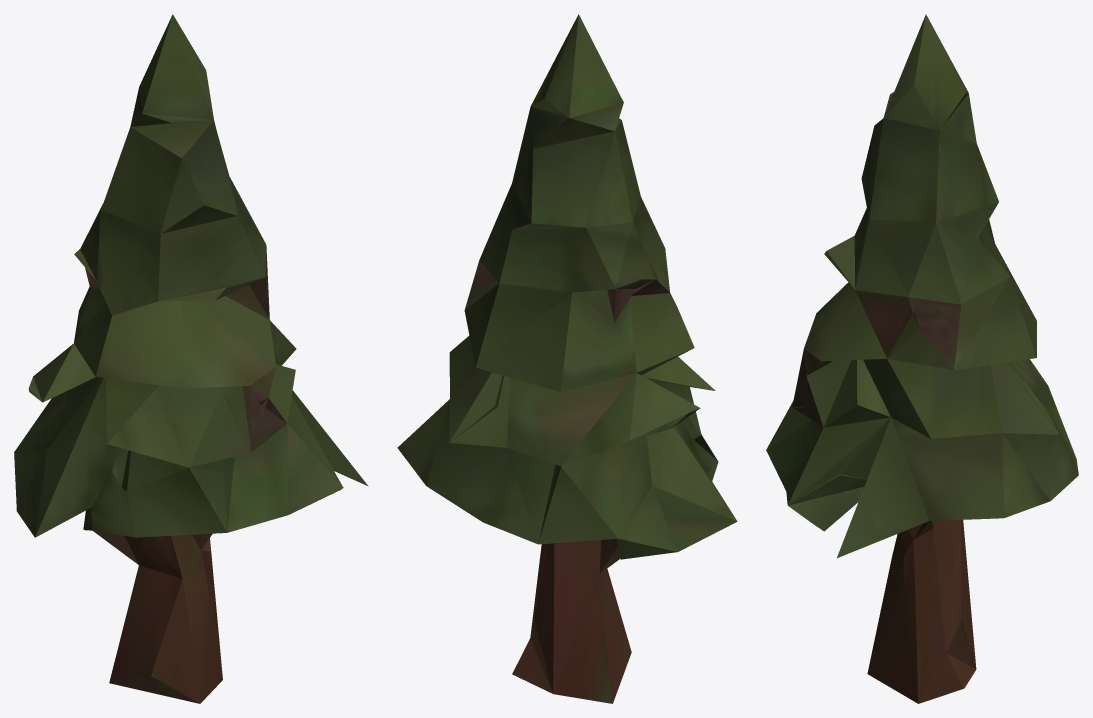
File: bg_forest_pine_4_lod1.glb
3 renders of one model, left to right at view 1: azimuth 30°, elevation 25°; view 2: azimuth 150°, elevation 25°; view 3: azimuth 270°, elevation 25°, orthographic.
Parts seen in each view (by area): view 1: sway, body; view 2: sway, body; view 3: sway, body.
Part boxes in pixels (x1,y1,x2,y2): sway: (14,14,368,537); body: (85,246,287,703); sway: (397,14,737,559); body: (465,260,669,703); sway: (766,14,1078,557); body: (792,290,976,703).
Bounding box in the file's own units: 3.18 × 6.85 × 2.91.
Materials: 1 (1 with a texture image).
